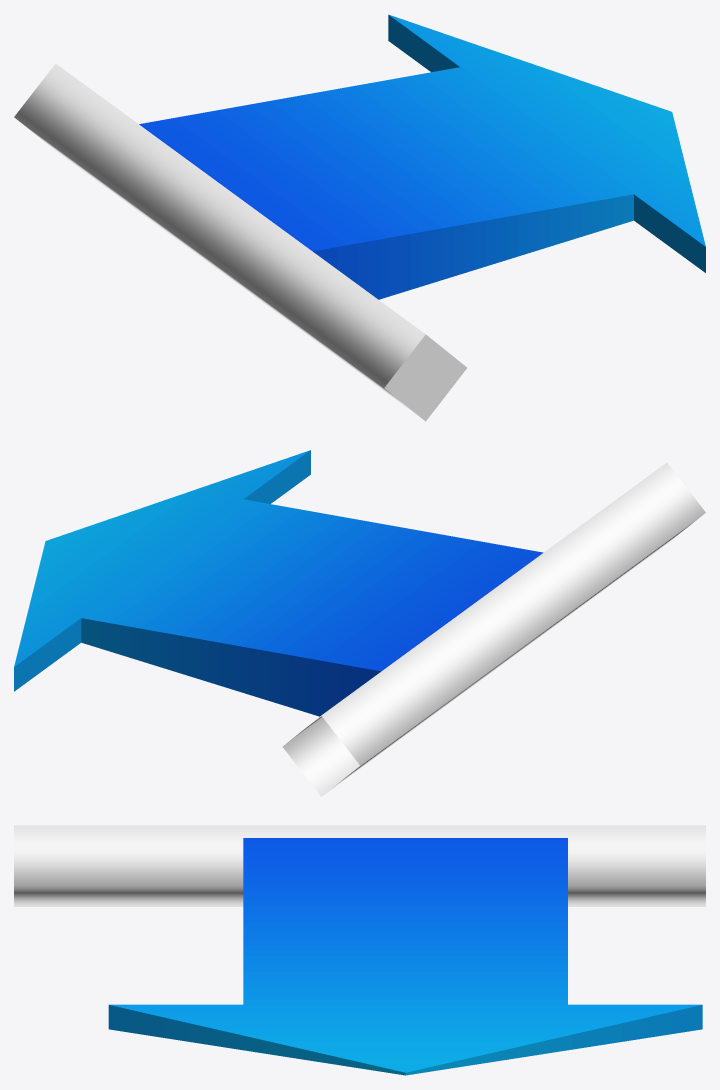
Rendered from arrow.obj.
3 views of the same model, one above another, from view 1: azimuth 30°, elevation 25°; view 2: azimuth 150°, elevation 25°; view 3: azimuth 270°, elevation 25° (orthographic). The views are drawn at different scales.
Visible parts, largest first — view 1: arrow; view 2: arrow; view 3: arrow.
Boxes of the visible parts, x1,y1,x2,y2 form: arrow: (14, 14, 705, 421); arrow: (14, 450, 705, 796); arrow: (14, 825, 705, 1075).
Bounding box in the file's own units: 11.64 × 1.95 × 15.
